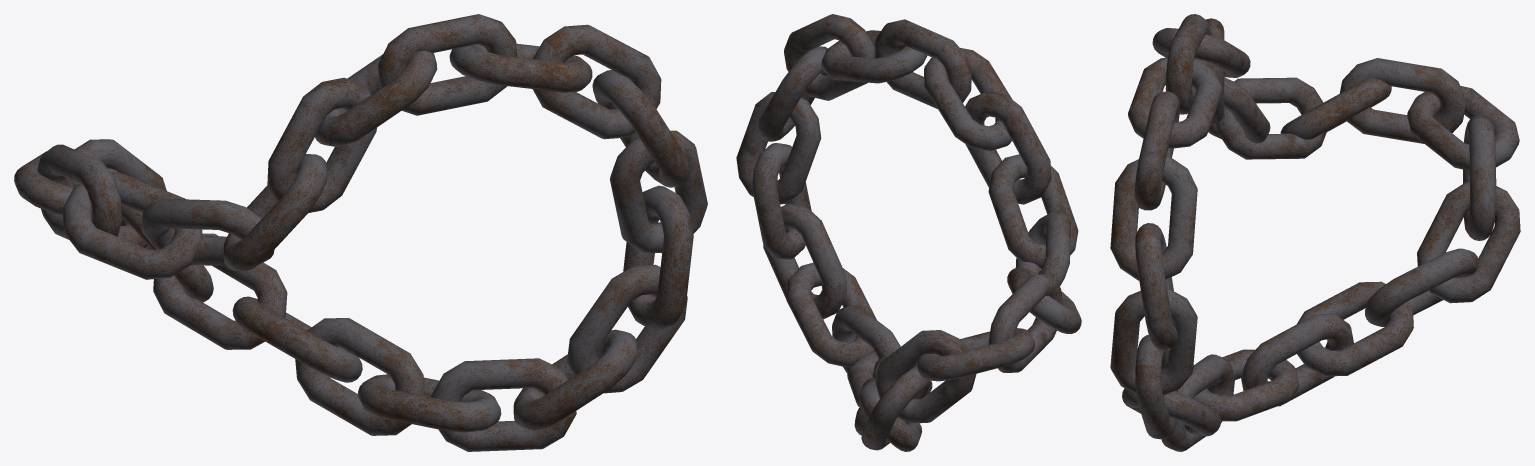
File: chain.glb
3 renders of one model, left to right at view 1: azimuth 30°, elevation 25°; view 2: azimuth 150°, elevation 25°; view 3: azimuth 270°, elevation 25°, orthographic. The views are drawn at different scales.
Visible parts, largest first — view 1: _Asset_Buildings_link:_chainLink_.005, _Asset_Buildings_link:_chainLink_.003, _Asset_Buildings_link:_chainLink_.021, _Asset_Buildings_link:_chainLink_.011, _Asset_Buildings_link:_chainLink_.013, _Asset_Buildings_link:_chainLink_.001, _Asset_Buildings_link:_chainLink_.009, _Asset_Buildings_link:_chainLink_.008, _Asset_Buildings_link:_chainLink_.007, _Asset_Buildings_link:_chainLink_.010, _Asset_Buildings_link:_chainLink_.015, _Asset_Buildings_link:_chainLink_.012 (+10 smaller); view 2: _Asset_Buildings_link:_chainLink_.001, _Asset_Buildings_link:_chainLink_, _Asset_Buildings_link:_chainLink_.018, _Asset_Buildings_link:_chainLink_.002, _Asset_Buildings_link:_chainLink_.007, _Asset_Buildings_link:_chainLink_.010, _Asset_Buildings_link:_chainLink_.003, _Asset_Buildings_link:_chainLink_.009, _Asset_Buildings_link:_chainLink_.008, _Asset_Buildings_link:_chainLink_.005, _Asset_Buildings_link:_chainLink_.019, _Asset_Buildings_link:_chainLink_.020 (+8 smaller); view 3: _Asset_Buildings_link:_chainLink_.016, _Asset_Buildings_link:_chainLink_.006, _Asset_Buildings_link:_chainLink_.020, _Asset_Buildings_link:_chainLink_.014, _Asset_Buildings_link:_chainLink_.008, _Asset_Buildings_link:_chainLink_.017, _Asset_Buildings_link:_chainLink_.013, _Asset_Buildings_link:_chainLink_.019, _Asset_Buildings_link:_chainLink_.004, _Asset_Buildings_link:_chainLink_.015, _Asset_Buildings_link:_chainLink_.007, _Asset_Buildings_link:_chainLink_.018 (+10 smaller).
Part boxes in pixels (left/top/right/bottom): _Asset_Buildings_link:_chainLink_.005: left=532, top=24, right=661, bottom=139; _Asset_Buildings_link:_chainLink_.003: left=378, top=14, right=517, bottom=115; _Asset_Buildings_link:_chainLink_.021: left=62, top=172, right=202, bottom=279; _Asset_Buildings_link:_chainLink_.011: left=431, top=358, right=576, bottom=451; _Asset_Buildings_link:_chainLink_.013: left=295, top=318, right=425, bottom=435; _Asset_Buildings_link:_chainLink_.001: left=267, top=77, right=376, bottom=212; _Asset_Buildings_link:_chainLink_.009: left=567, top=264, right=687, bottom=393; _Asset_Buildings_link:_chainLink_.008: left=623, top=185, right=693, bottom=330; _Asset_Buildings_link:_chainLink_.007: left=610, top=130, right=707, bottom=253; _Asset_Buildings_link:_chainLink_.010: left=513, top=329, right=637, bottom=430; _Asset_Buildings_link:_chainLink_.015: left=153, top=233, right=287, bottom=349; _Asset_Buildings_link:_chainLink_.012: left=358, top=374, right=501, bottom=432; _Asset_Buildings_link:_chainLink_.001: left=965, top=91, right=1051, bottom=204; _Asset_Buildings_link:_chainLink_: left=988, top=154, right=1078, bottom=269; _Asset_Buildings_link:_chainLink_.018: left=875, top=330, right=976, bottom=423; _Asset_Buildings_link:_chainLink_.002: left=924, top=48, right=1012, bottom=151; _Asset_Buildings_link:_chainLink_.007: left=736, top=92, right=821, bottom=204; _Asset_Buildings_link:_chainLink_.010: left=786, top=262, right=876, bottom=367; _Asset_Buildings_link:_chainLink_.003: left=874, top=19, right=971, bottom=108; _Asset_Buildings_link:_chainLink_.009: left=763, top=203, right=846, bottom=319; _Asset_Buildings_link:_chainLink_.008: left=752, top=143, right=811, bottom=259; _Asset_Buildings_link:_chainLink_.005: left=784, top=14, right=874, bottom=100; _Asset_Buildings_link:_chainLink_.019: left=916, top=328, right=1034, bottom=381; _Asset_Buildings_link:_chainLink_.020: left=988, top=274, right=1062, bottom=372; _Asset_Buildings_link:_chainLink_.016: left=1417, top=182, right=1520, bottom=303; _Asset_Buildings_link:_chainLink_.006: left=1110, top=156, right=1197, bottom=280; _Asset_Buildings_link:_chainLink_.020: left=1339, top=58, right=1466, bottom=143; _Asset_Buildings_link:_chainLink_.014: left=1297, top=281, right=1413, bottom=376; _Asset_Buildings_link:_chainLink_.008: left=1110, top=288, right=1197, bottom=395; _Asset_Buildings_link:_chainLink_.017: left=1216, top=77, right=1326, bottom=159; _Asset_Buildings_link:_chainLink_.013: left=1241, top=313, right=1353, bottom=406; _Asset_Buildings_link:_chainLink_.019: left=1407, top=86, right=1519, bottom=170; _Asset_Buildings_link:_chainLink_.004: left=1128, top=57, right=1222, bottom=148; _Asset_Buildings_link:_chainLink_.015: left=1365, top=248, right=1478, bottom=326; _Asset_Buildings_link:_chainLink_.007: left=1135, top=223, right=1177, bottom=350; _Asset_Buildings_link:_chainLink_.018: left=1463, top=115, right=1496, bottom=240.
Size of the model in its own units: 22.99 by 18.74 by 17.84.
1 material, 1 textured.
